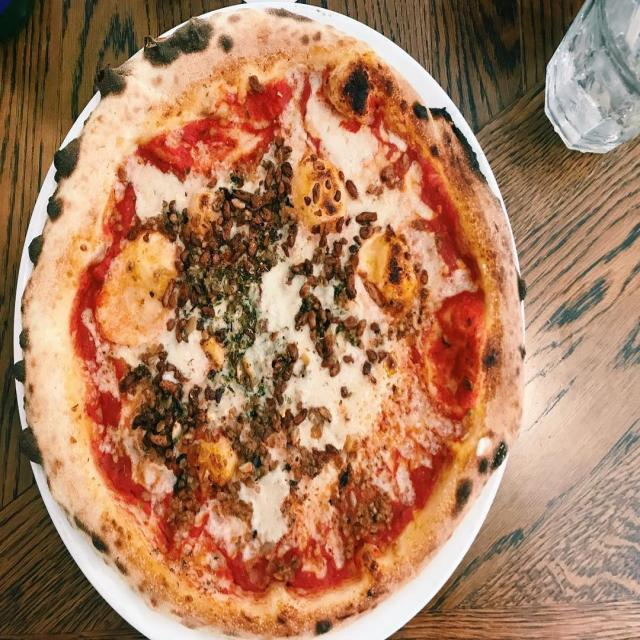pizza: (19, 8, 525, 635)
